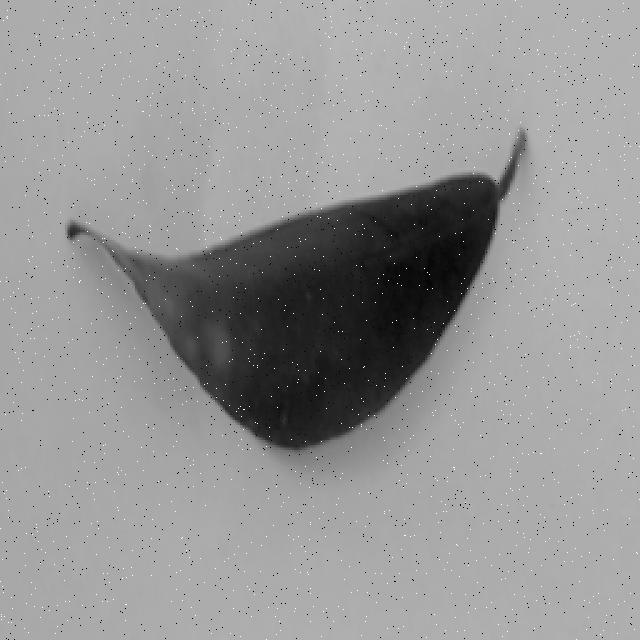greening: (58, 116, 541, 471)
